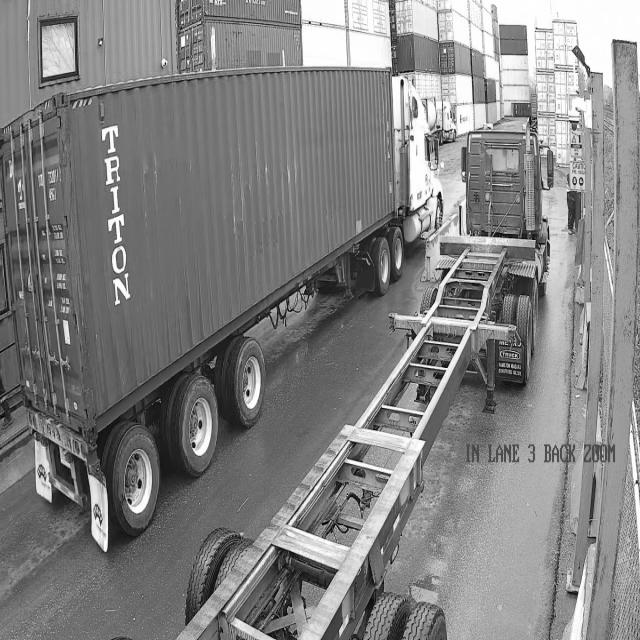container_company_logo: (95, 121, 151, 311)
truck_with_container: (0, 68, 443, 551)
truck_without_container: (178, 124, 553, 639)
